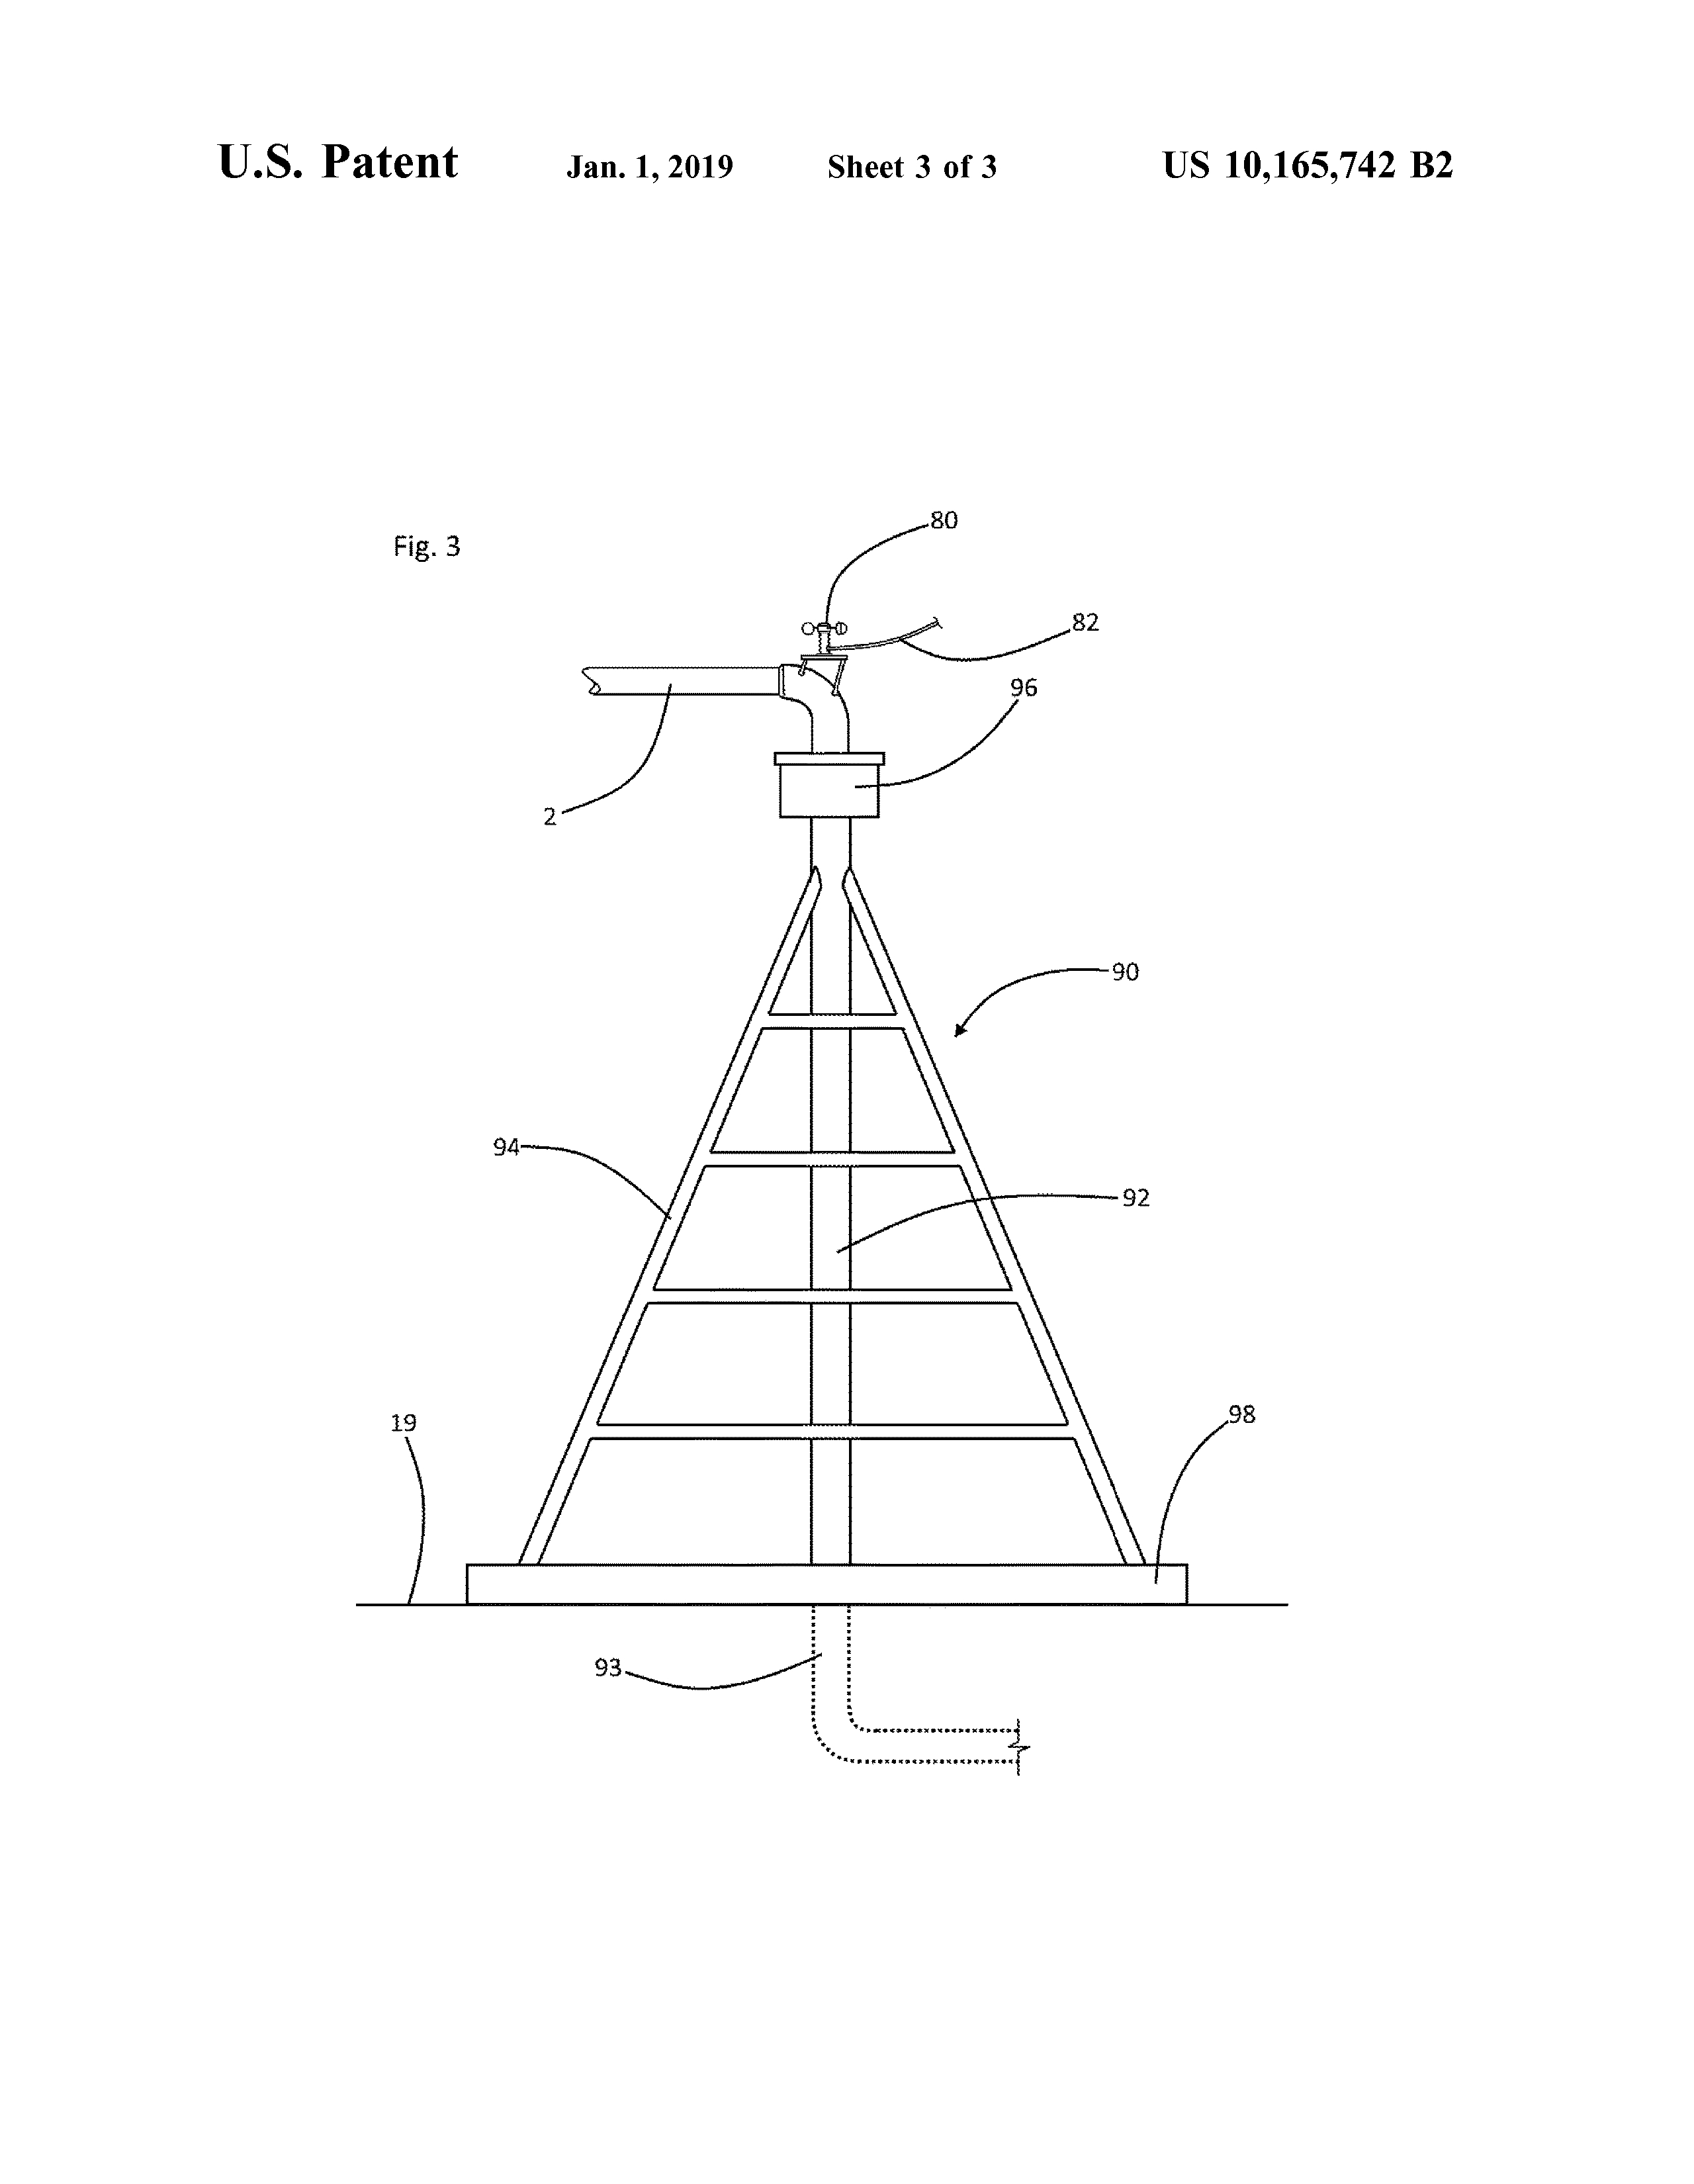patent image: (305, 383, 1380, 1856)
